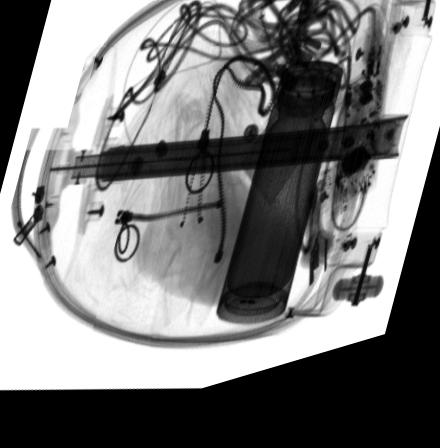Powerbank: (231, 101, 327, 231)
